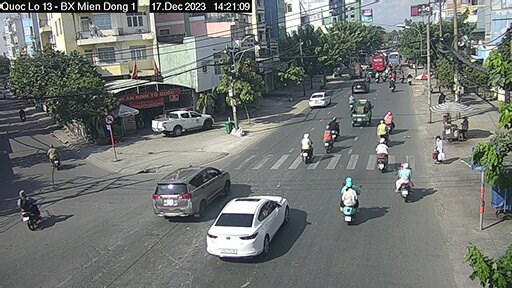bus: (385, 48, 399, 68)
car: (217, 193, 291, 261), (152, 165, 229, 218), (145, 109, 217, 137), (345, 99, 375, 130), (306, 89, 332, 109), (372, 53, 387, 75), (350, 76, 369, 93)
motorbike: (338, 180, 364, 225), (15, 192, 44, 230), (296, 132, 317, 166), (396, 162, 413, 200), (374, 139, 390, 171)
